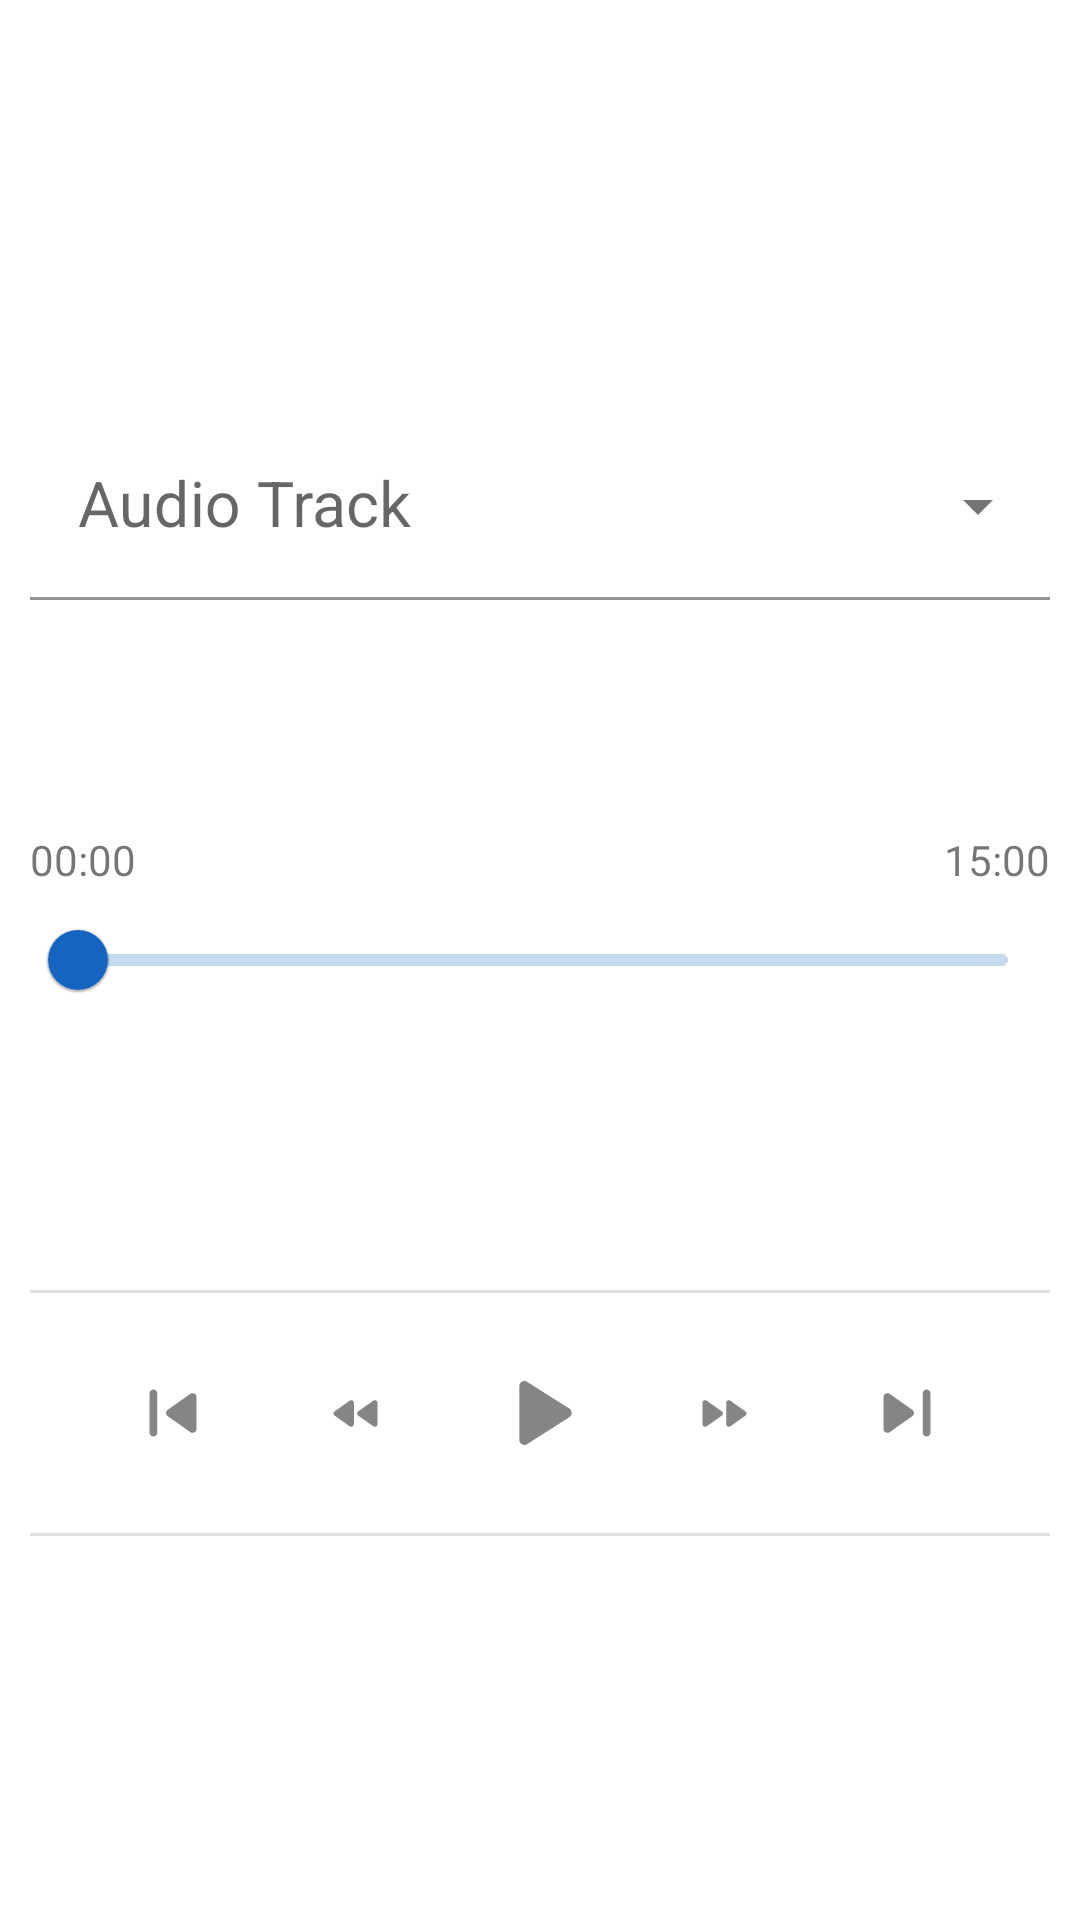

Named icons in this screenshot (1080 × 1920) and their bounding boxes, [left=x1, top=y1, right=x2, bottom=y2]:
back long: [left=149, top=1389, right=197, bottom=1437]
back short: [left=333, top=1400, right=378, bottom=1427]
forward long: [left=883, top=1389, right=931, bottom=1437]
forward short: [left=702, top=1400, right=747, bottom=1427]
play: [left=519, top=1381, right=572, bottom=1445]
